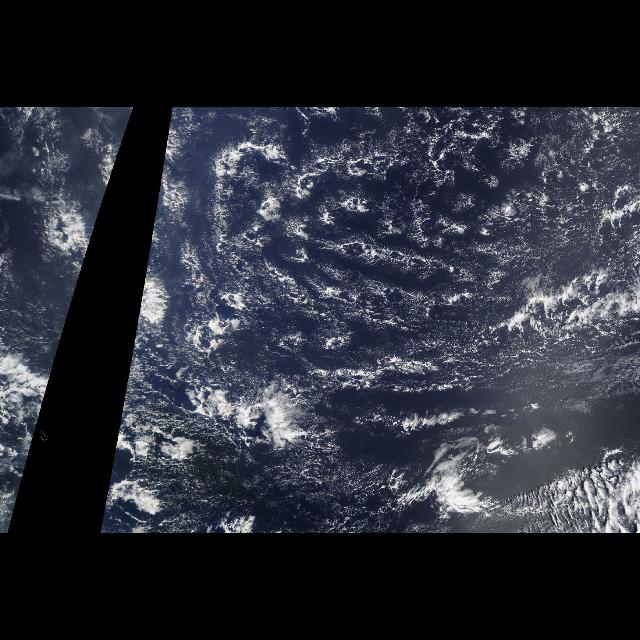Gravel: (174, 118, 634, 390)
Sugar: (254, 160, 572, 348)
